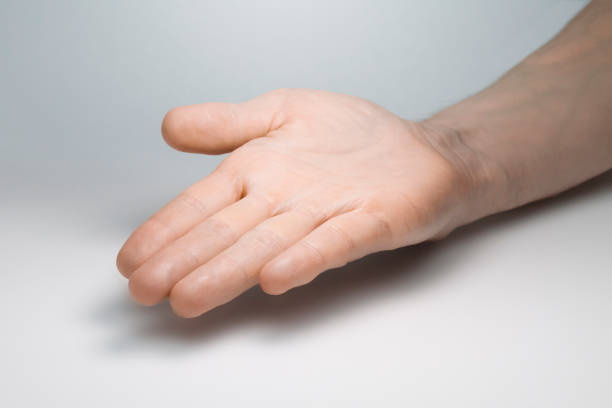hand: (92, 83, 483, 321)
